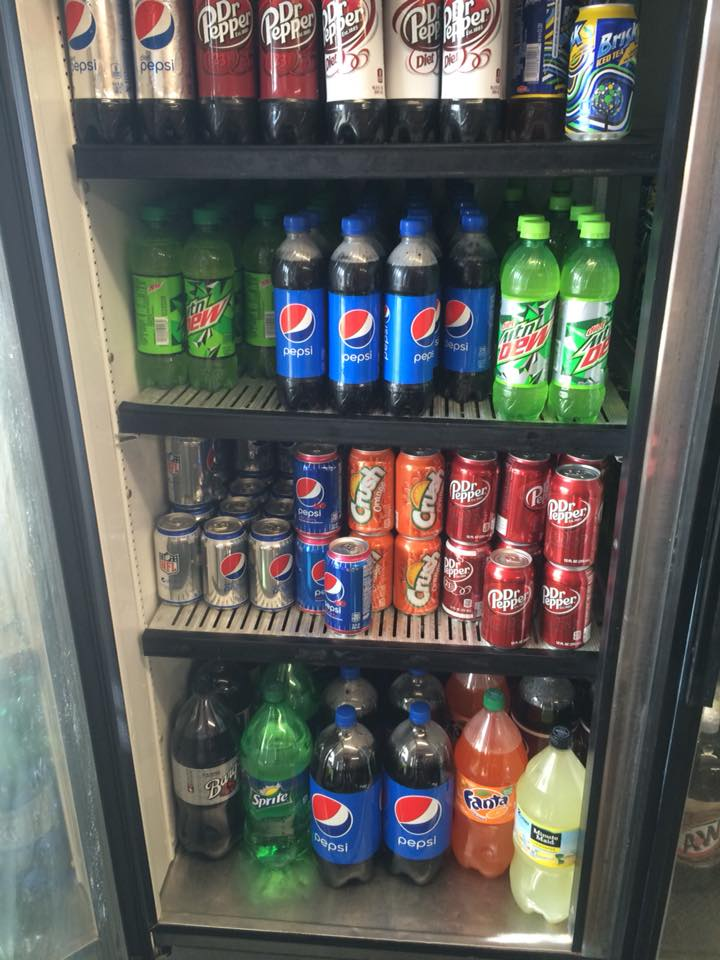A&W: (685, 825, 720, 855)
crush: (350, 463, 385, 523), (405, 551, 440, 605), (413, 471, 443, 528)
drpepper: (259, 1, 316, 50), (199, 1, 256, 43), (546, 496, 589, 529), (449, 476, 490, 507), (488, 586, 531, 614), (542, 583, 579, 615)
fanta: (461, 787, 511, 814)
minutemaid: (529, 825, 564, 850)
mountaindew: (500, 322, 549, 365)
pepsi: (133, 1, 178, 54), (395, 794, 441, 837), (312, 792, 352, 841), (279, 302, 317, 344), (340, 306, 376, 349), (296, 477, 323, 507), (219, 552, 246, 581)
sprite: (252, 790, 289, 809)
